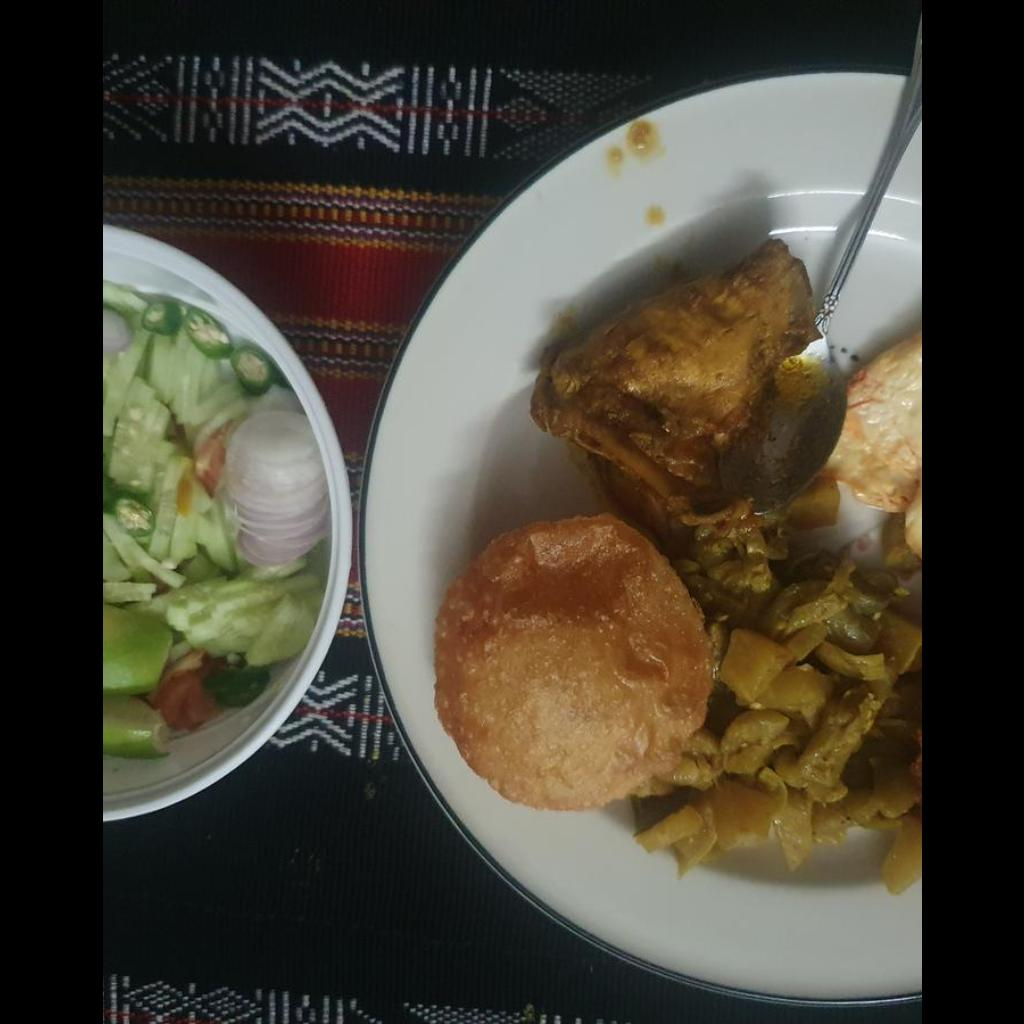chicken: (536, 242, 822, 507)
egg-poached: (826, 333, 920, 554)
puri: (430, 520, 714, 809)
salad: (102, 287, 330, 758)
vaji: (644, 543, 920, 897)
